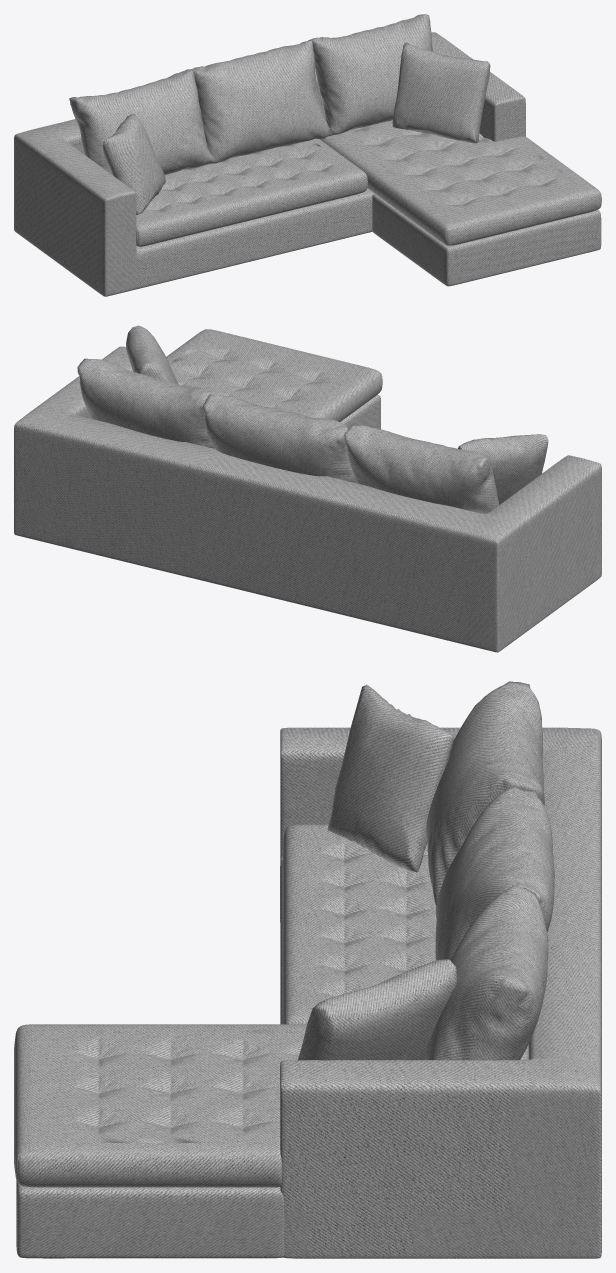
File: Siena-Baldar-edit.glb
3 renders of one model, top to bottom at view 1: azimuth 30°, elevation 25°; view 2: azimuth 150°, elevation 25°; view 3: azimuth 270°, elevation 25°, orthographic. The views are drawn at different scales.
Visible parts, largest first — view 1: Siena Baldar; view 2: Siena Baldar; view 3: Siena Baldar.
Part boxes in pixels (x1=…): Siena Baldar: x1=14, y1=14, x2=601, y2=296; Siena Baldar: x1=14, y1=325, x2=601, y2=652; Siena Baldar: x1=14, y1=681, x2=601, y2=1258.
Bounding box in the file's own units: 2.28 × 0.7357 × 1.57.
1 material, 1 textured.
